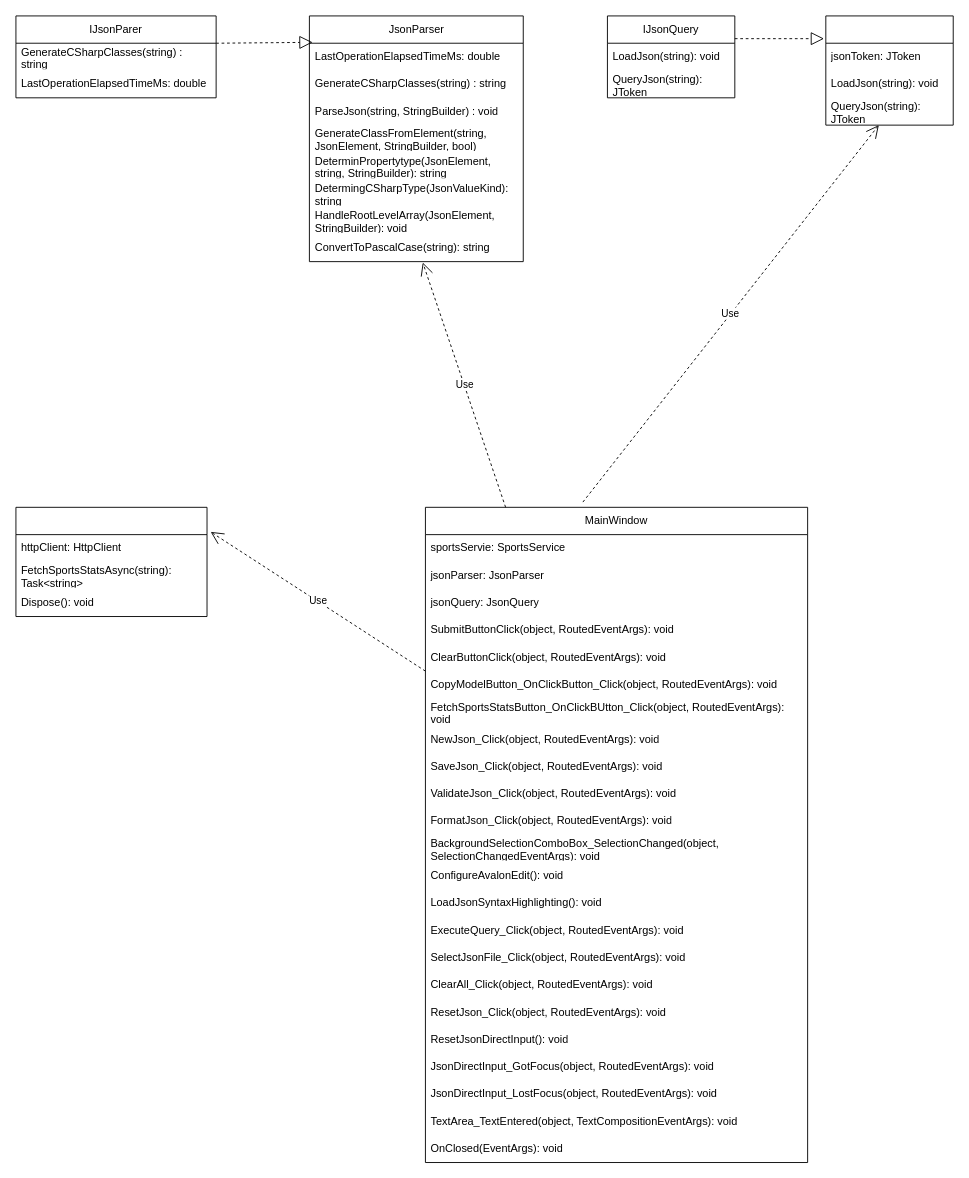
Image size: 969x1178. Some labels were removed from this diagram. The box of each missing label's shape, as (x1, y1, x2, y2) in pixels:
JsonQuery: (825, 15, 953, 125)
SportsService: (15, 506, 207, 617)
